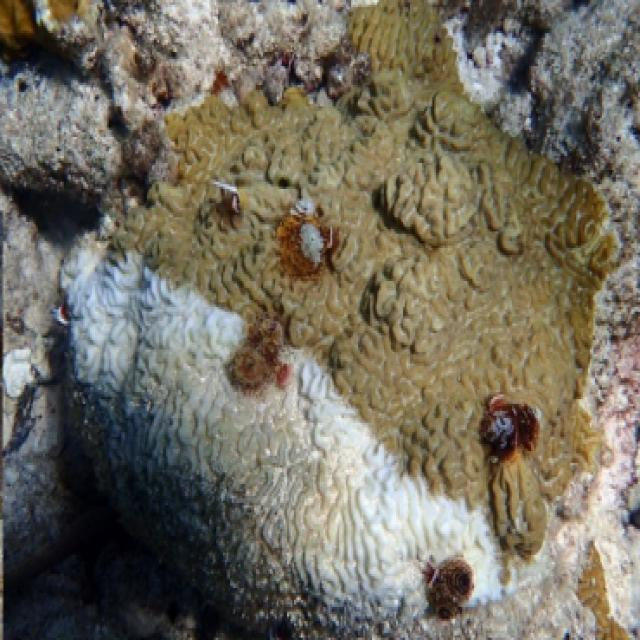Coral: (58, 0, 623, 640)
